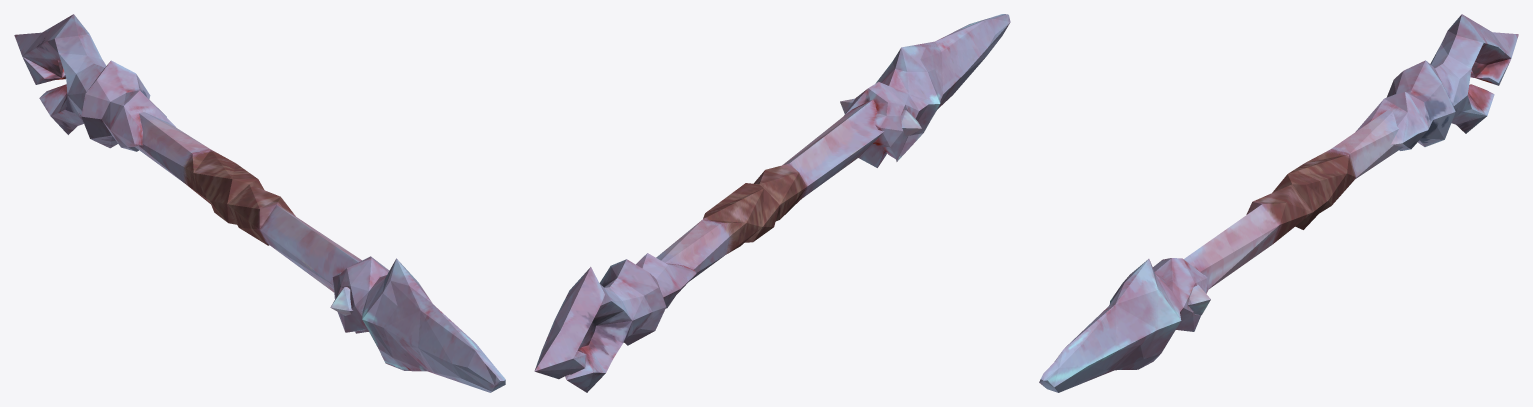
The model's file is Goblin_Spear.fbx.
The picture shows the model from 3 angles, left to right: view 1: azimuth 30°, elevation 25°; view 2: azimuth 150°, elevation 25°; view 3: azimuth 330°, elevation 25°; orthographic projection.
Parts seen in each view (by area): view 1: Goblin_Spear.mo; view 2: Goblin_Spear.mo; view 3: Goblin_Spear.mo.
Part boxes in pixels (x1,y1,x2,y2): Goblin_Spear.mo: (14, 14, 505, 392); Goblin_Spear.mo: (534, 14, 1010, 392); Goblin_Spear.mo: (1039, 14, 1518, 392).
Size of the model in its own units: 16.39 by 23.37 by 165.
